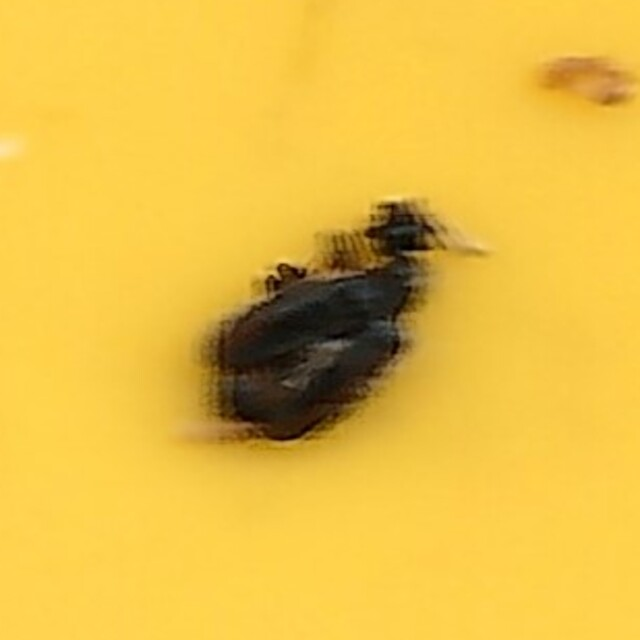Coleoptera: (207, 188, 433, 452)
